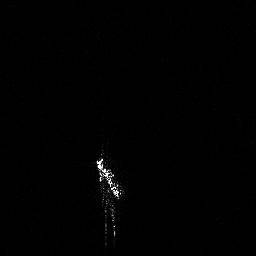ship: (93, 151, 126, 204)
